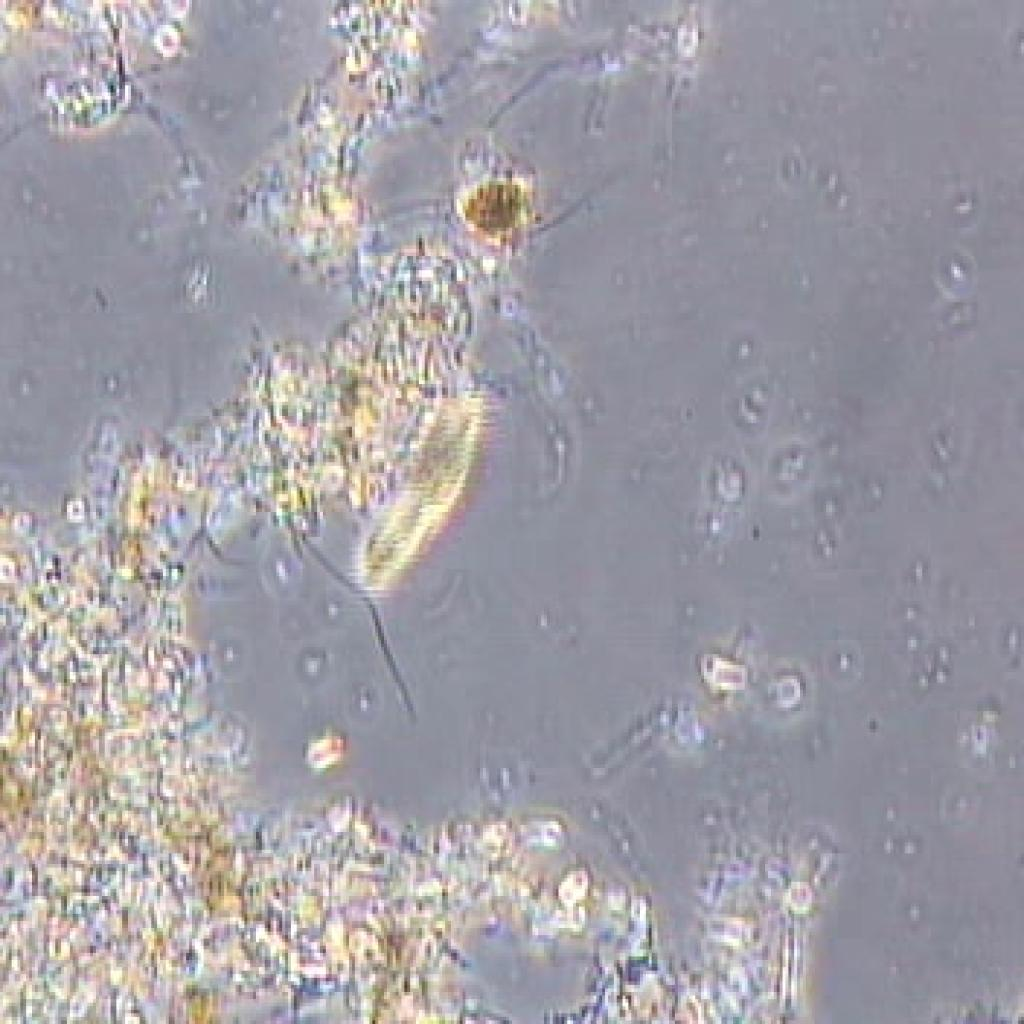Chaetonotus: (358, 372, 489, 614)
